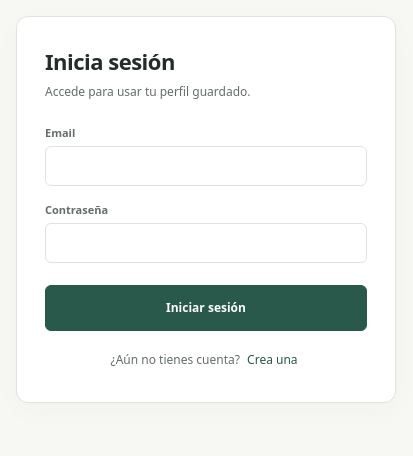
Test: AuthScreen › registers, sends credentials with the session cookie and shows field errors without echoing input
The width and height of the screenshot is (413, 456).
expect the heading "Inicia sesión" is shown: met, box [45, 46, 175, 76]
Click the button "Crea una".
click(272, 359)  # box [243, 349, 302, 370]
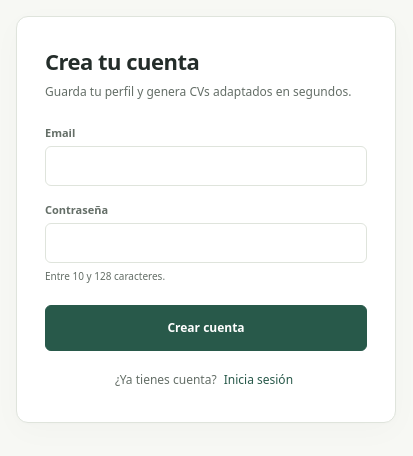
expect the heading "Crea tu cuenta" is shown: met, box [45, 46, 199, 76]
Type "ana@example.com" into the field labelled "Email".
click(206, 166); type("ana@example.com")  # box [45, 146, 367, 186]
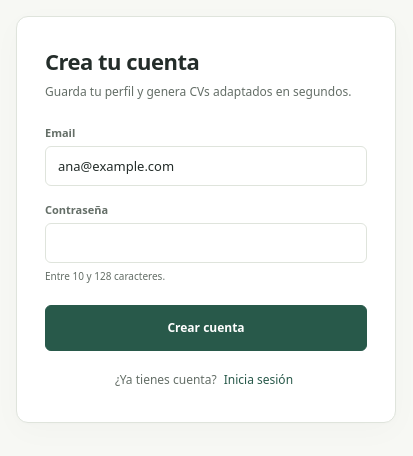
Type "short" into the password field labelled "Contraseña".
click(206, 243); type("short")  # box [45, 223, 367, 263]
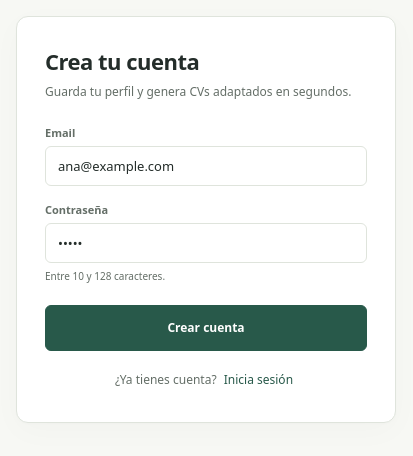
Click the button "Crear cuenta".
click(206, 328)  # box [45, 305, 367, 351]
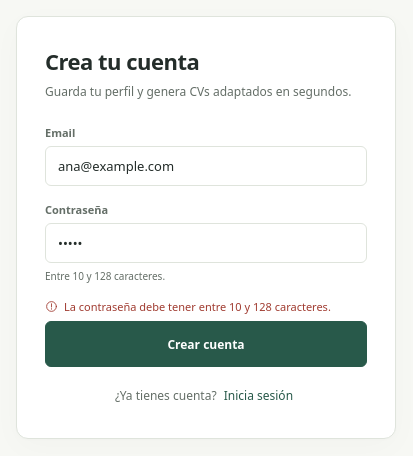
expect the message shows "entre 10 y 128": met, box [64, 299, 331, 314]
